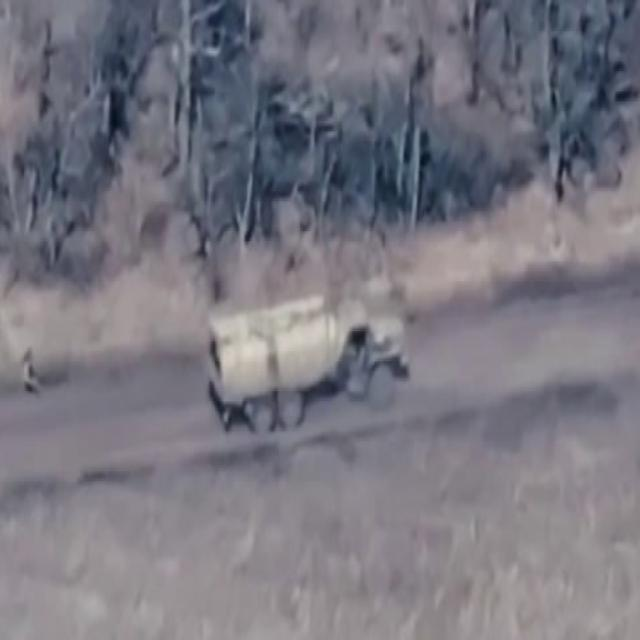TRUCK: (205, 284, 411, 435)
